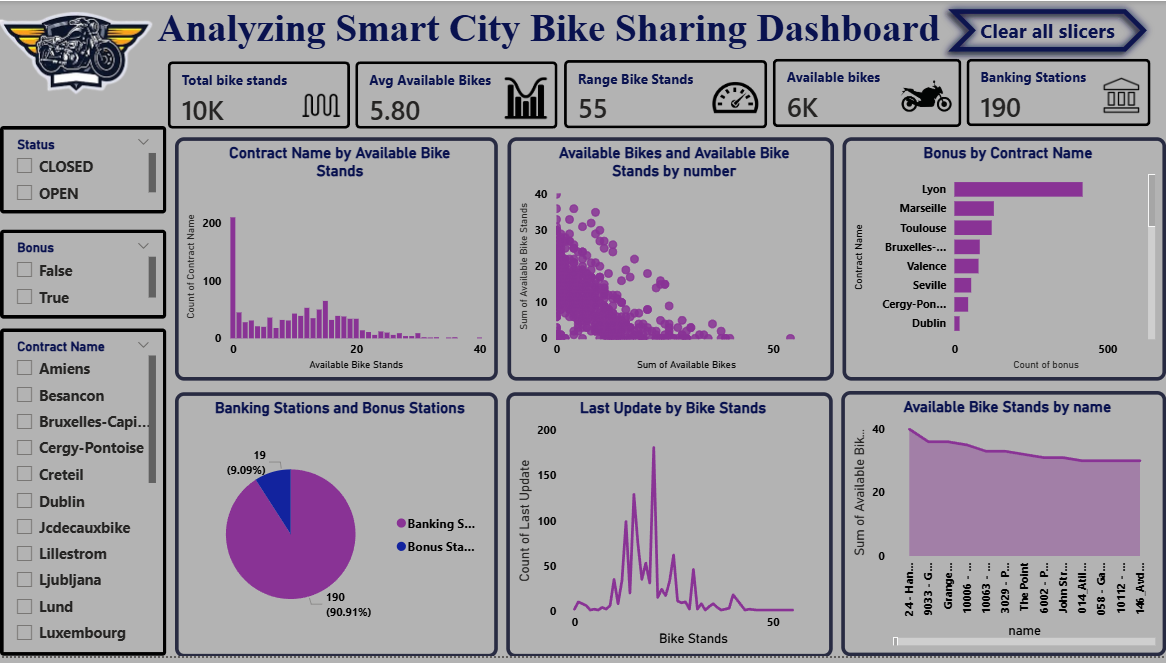

This screenshot's page, from the dashboard's own definition file:
{"tool":"powerbi","page":{"name":"Page 1","canvas":[1280,720],"ordinal":0},"visuals":[{"type":"cardVisual","fields":{"Data":["Calendar.Total bike stands"]},"box":[167.4,49.4,234.6,108.4],"z":0},{"type":"cardVisual","fields":{"Data":["Calendar.Banking Stations"]},"box":[1044.3,46.7,236,108.4],"z":1000},{"type":"cardVisual","fields":{"Data":["Calendar.Range Bike Stands"]},"box":[602.4,48,258,109.8],"z":2000},{"type":"cardVisual","fields":{"Data":["Calendar.Avg Available Bikes"]},"box":[373.2,49.4,256.6,108.4],"z":3000},{"type":"image","box":[0,0,167.4,113.9],"z":4000},{"type":"textbox","box":[131.7,0,941.3,101.5],"z":5000},{"type":"scatterChart","title":"Available Bikes and Available Bike Stands by number","fields":{"X":["Sum(Feuil1.Available Bikes)"],"Y":["Sum(Feuil1.Available Bike Stands)"],"Category":["Feuil1.number"]},"box":[557.1,149.6,358.1,267.6],"z":6000},{"type":"pieChart","fields":{"Y":["Calendar.Banking Stations","Calendar.Bonus Stations"]},"box":[192.1,429.5,354,290.9],"z":7000},{"type":"clusteredColumnChart","title":"Contract Name by Available Bike Stands","fields":{"Category":["Feuil1.Available Bike Stands"],"Y":["CountNonNull(Feuil1.Contract Name)"]},"box":[192.1,149.6,354,267.6],"z":8000},{"type":"lineChart","title":"Last Update by Bike Stands","fields":{"Category":["Feuil1.Bike Stands"],"Y":["CountNonNull(Feuil1.Last Update)"]},"box":[555.7,429.5,358.1,290.9],"z":9000},{"type":"clusteredBarChart","title":"Bonus by Contract Name","fields":{"Y":["CountNonNull(Feuil1.bonus)"],"Category":["Feuil1.Contract Name"]},"box":[924.9,149.6,355.4,267.6],"z":10000},{"type":"areaChart","title":"Available Bike Stands by name","fields":{"Y":["Sum(Feuil1.Available Bike Stands)"],"Category":["Feuil1.name"]},"box":[923.5,428.1,356.8,290.9],"z":11000},{"type":"cardVisual","fields":{"Data":["Calendar.Available bikes"]},"box":[831.6,46.7,241.5,109.8],"z":12000},{"type":"actionButton","box":[1031.9,0,236,64.5],"z":13000},{"type":"slicer","fields":{"Values":["Feuil1.Contract Name"]},"box":[0,359.5,182.5,359.5],"z":14000},{"type":"slicer","fields":{"Values":["Feuil1.status"]},"box":[0,137.2,182.5,96.1],"z":15000},{"type":"slicer","fields":{"Values":["Feuil1.bonus"]},"box":[0,251.1,182.5,97.4],"z":16000}]}

Visuals, with their boxes in screenshot pixels (x1, y1, x2, y2), scaled from the page's 1280x720 canvas onto the 1166x663 screenshot:
cardVisual - Calendar.Total bike stands: (152,45,366,145)
cardVisual - Calendar.Banking Stations: (951,43,1165,143)
cardVisual - Calendar.Range Bike Stands: (549,44,784,145)
cardVisual - Calendar.Avg Available Bikes: (340,45,574,145)
image: (0,0,152,105)
textbox: (120,0,977,93)
"Available Bikes and Available Bike Stands by number" scatterChart: (507,138,834,384)
pieChart - Calendar.Banking Stations x Calendar.Bonus Stations: (175,395,497,662)
"Contract Name by Available Bike Stands" clusteredColumnChart: (175,138,497,384)
"Last Update by Bike Stands" lineChart: (506,395,832,662)
"Bonus by Contract Name" clusteredBarChart: (843,138,1165,384)
"Available Bike Stands by name" areaChart: (841,394,1165,662)
cardVisual - Calendar.Available bikes: (758,43,978,144)
actionButton: (940,0,1155,59)
slicer - Feuil1.Contract Name: (0,331,166,662)
slicer - Feuil1.status: (0,126,166,215)
slicer - Feuil1.bonus: (0,231,166,321)
